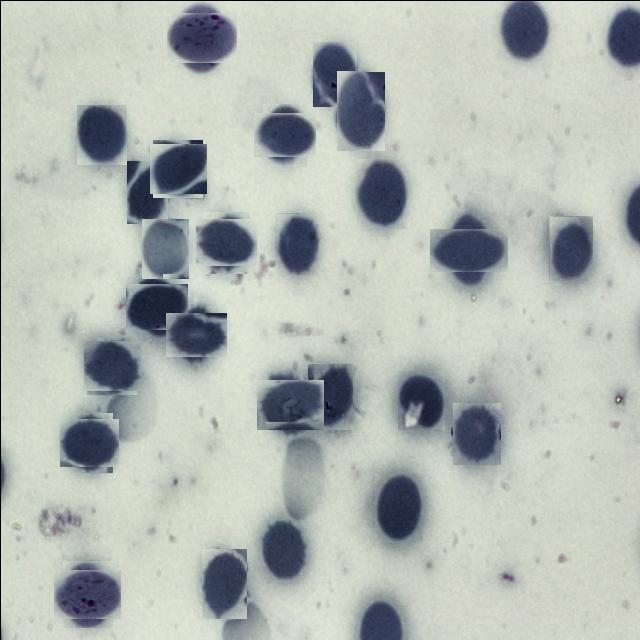red blood cell: (437, 218, 499, 280), (336, 71, 384, 150), (356, 158, 406, 228), (260, 374, 318, 434), (374, 473, 422, 542), (201, 548, 246, 618), (306, 362, 352, 429), (260, 516, 306, 582), (76, 104, 126, 164), (452, 402, 500, 464), (140, 217, 188, 278), (198, 215, 252, 269), (61, 415, 115, 469), (130, 279, 184, 333), (84, 338, 138, 392), (150, 141, 204, 195), (312, 42, 356, 108), (257, 108, 311, 161), (548, 215, 592, 280), (168, 308, 222, 360), (397, 370, 444, 429), (275, 212, 318, 274), (126, 160, 167, 223)
ring: (170, 8, 232, 68), (57, 564, 116, 623)
